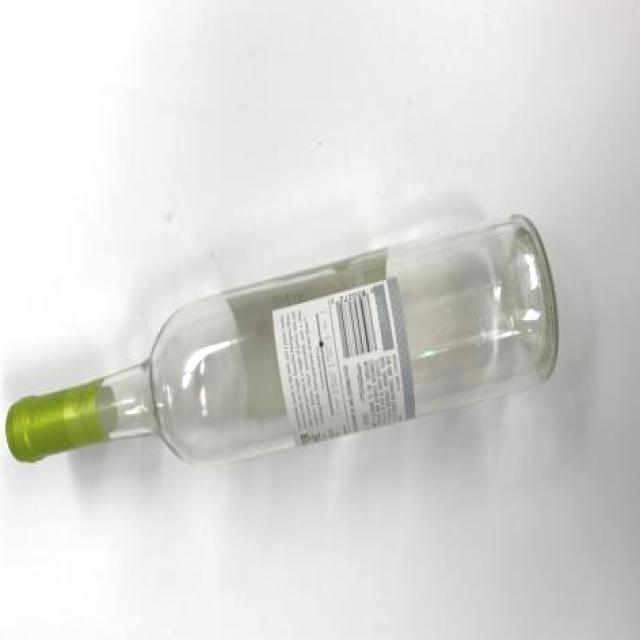chai_thuy_tinh: (5, 215, 560, 464)
